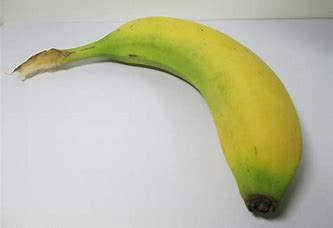fruit_banana: (8, 13, 306, 222)
